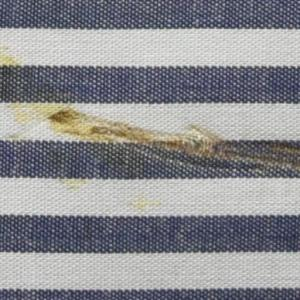Damage: (51, 105, 300, 180)
Oil Stain: (1, 42, 300, 223)
